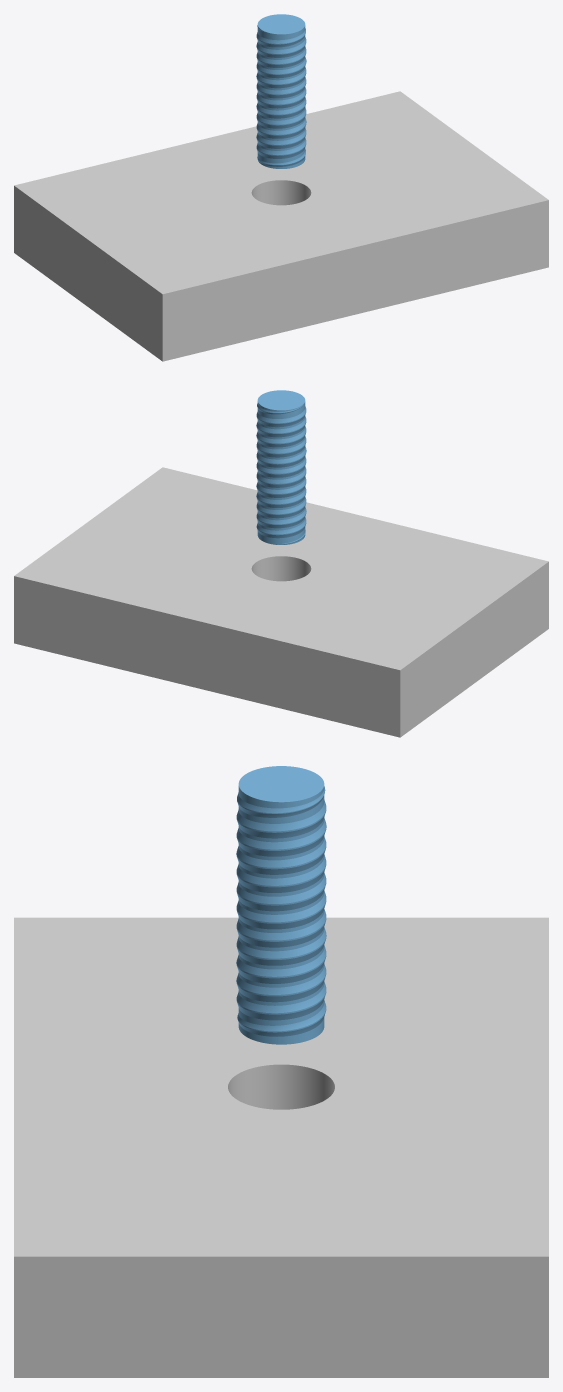
File: delikli_plaka_ve_yivli_vida.gltf
3 views of the same model, one above another, from view 1: azimuth 30°, elevation 25°; view 2: azimuth 150°, elevation 25°; view 3: azimuth 270°, elevation 25° (orthographic). The views are drawn at different scales.
Parts seen in each view (by area): view 1: plaka_part, vida_part; view 2: plaka_part, vida_part; view 3: plaka_part, vida_part.
Part boxes in pixels (x1=…): plaka_part: x1=14, y1=91, x2=548, y2=361; vida_part: x1=256, y1=14, x2=306, y2=168; plaka_part: x1=14, y1=467, x2=548, y2=737; vida_part: x1=256, y1=390, x2=306, y2=544; plaka_part: x1=14, y1=917, x2=548, y2=1377; vida_part: x1=236, y1=766, x2=326, y2=1044.
Size of the model in its own units: 60 by 35 by 40.
